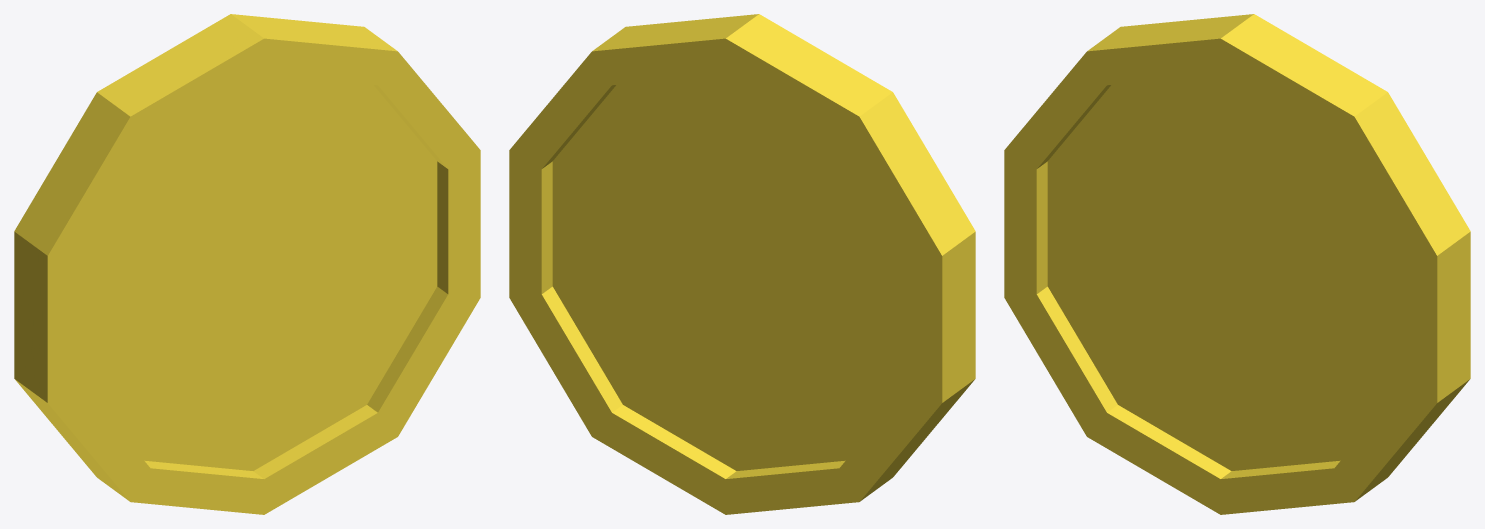
The model's file is coin.fbx.
3 views of the same model, side by side, from view 1: azimuth 30°, elevation 25°; view 2: azimuth 150°, elevation 25°; view 3: azimuth 330°, elevation 25° (orthographic).
Parts seen in each view (by area): view 1: Cylinder; view 2: Cylinder; view 3: Cylinder.
Part boxes in pixels (x1=…): Cylinder: x1=14, y1=14, x2=480, y2=514; Cylinder: x1=509, y1=14, x2=975, y2=514; Cylinder: x1=1004, y1=14, x2=1470, y2=514.
Bounding box in the file's own units: 190 × 200 × 25.55.
